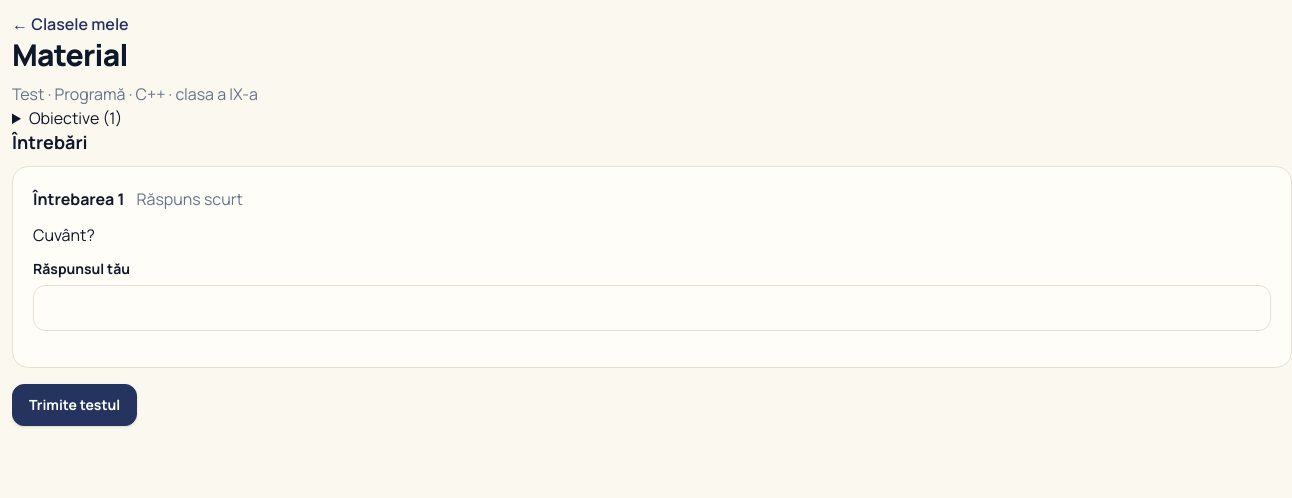
Test: StudentMaterialPage (test, problem, exercise) › marks a test completed after the attempt, even with a score of 0
Type "for" into the field labelled "Răspunsul tău" at (652, 308), box x1=33 y1=285 x2=1271 y2=331
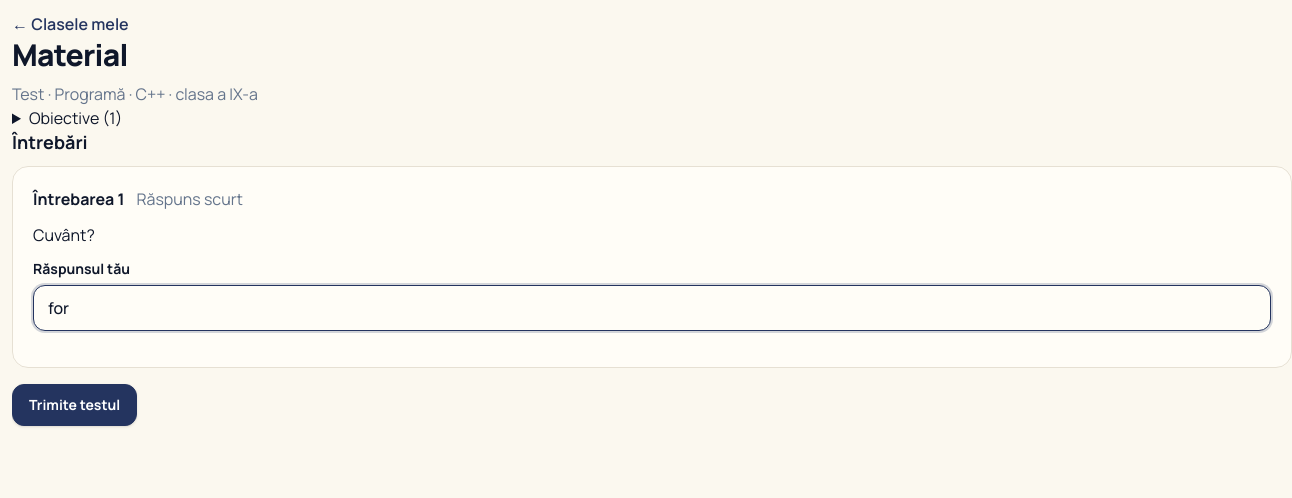
Click the button "Trimite testul" at (75, 405), box x1=12 y1=384 x2=137 y2=426
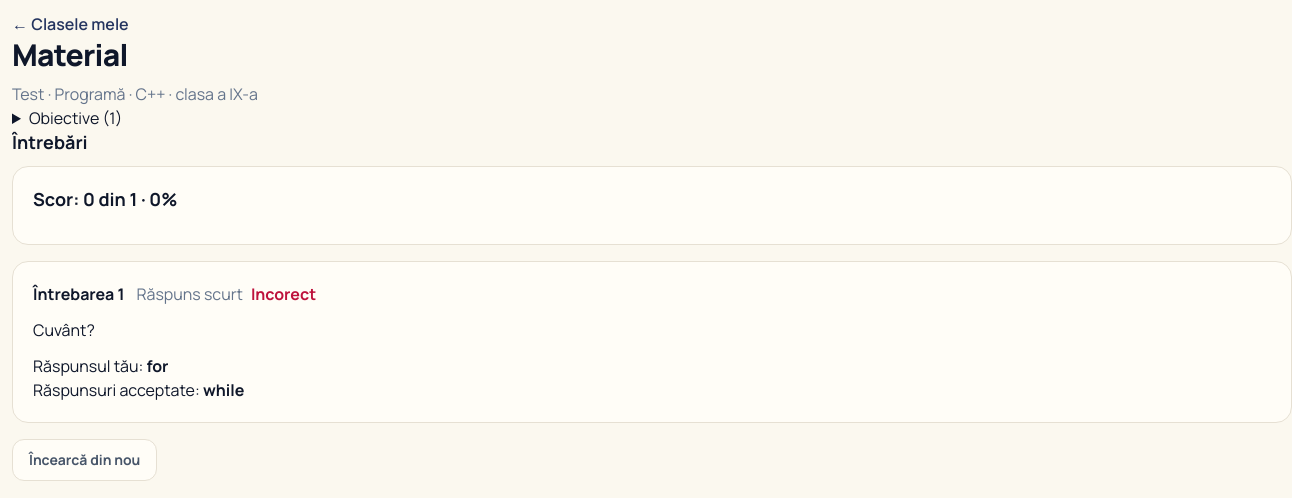
Expected: the heading "Scor: 0 din 1 · 0%" is shown, x1=33 y1=187 x2=177 y2=211
